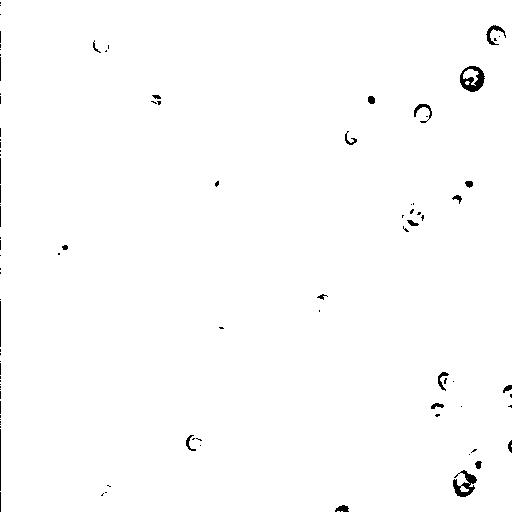micro-algae: (415, 405, 511, 512), (38, 215, 112, 291), (0, 191, 61, 272), (356, 197, 419, 255), (2, 24, 59, 84), (467, 0, 511, 69), (41, 1, 101, 38), (371, 13, 415, 53), (135, 0, 189, 32), (78, 194, 113, 233), (397, 201, 433, 235), (195, 164, 230, 198), (1, 97, 31, 133), (459, 63, 487, 95), (88, 481, 121, 508), (356, 83, 385, 113), (451, 468, 479, 498), (159, 100, 187, 127), (457, 168, 485, 195), (115, 337, 142, 365), (152, 361, 179, 388), (465, 449, 493, 475), (309, 293, 336, 319), (483, 23, 507, 49), (411, 101, 433, 125), (435, 370, 457, 391), (56, 237, 76, 260), (185, 432, 205, 452), (91, 36, 111, 55), (499, 380, 511, 409), (343, 127, 361, 146), (428, 400, 445, 419), (447, 195, 465, 211), (329, 502, 351, 511), (504, 434, 512, 453), (505, 77, 511, 101)
